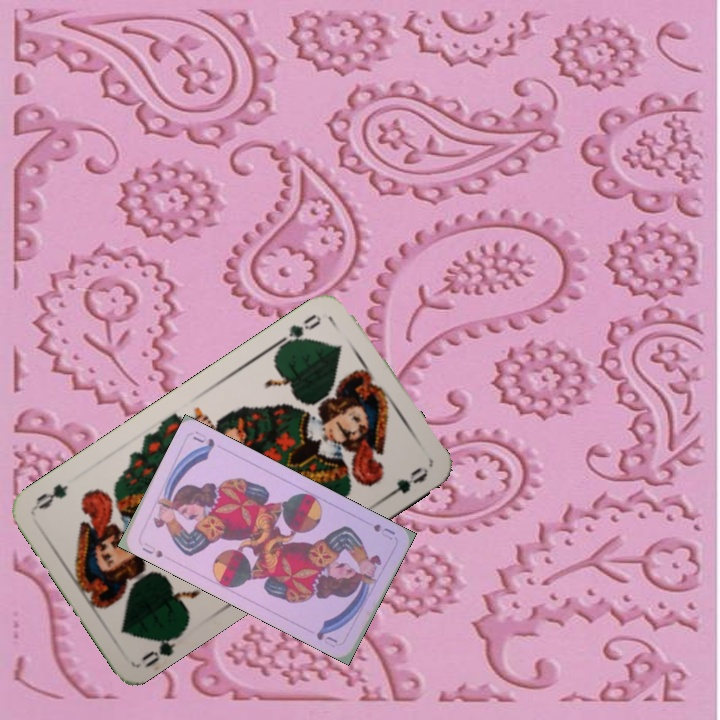GO: (137, 626, 187, 671), (273, 310, 324, 350)
SU: (369, 520, 398, 542), (138, 543, 166, 560)
